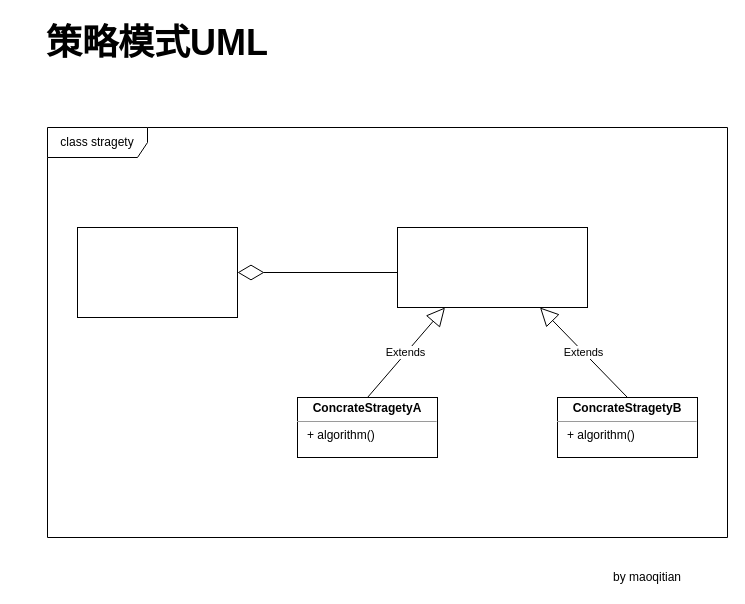
Some shapes in this 745 by 604 pixel diagram are drawn without their labels. Each missing label, with the centre of its shape:
"<<Interface>> Stragety + algorithm()" belongs at [492,267].
"Context + algorithm() + setStragety()" belongs at [157,272].
